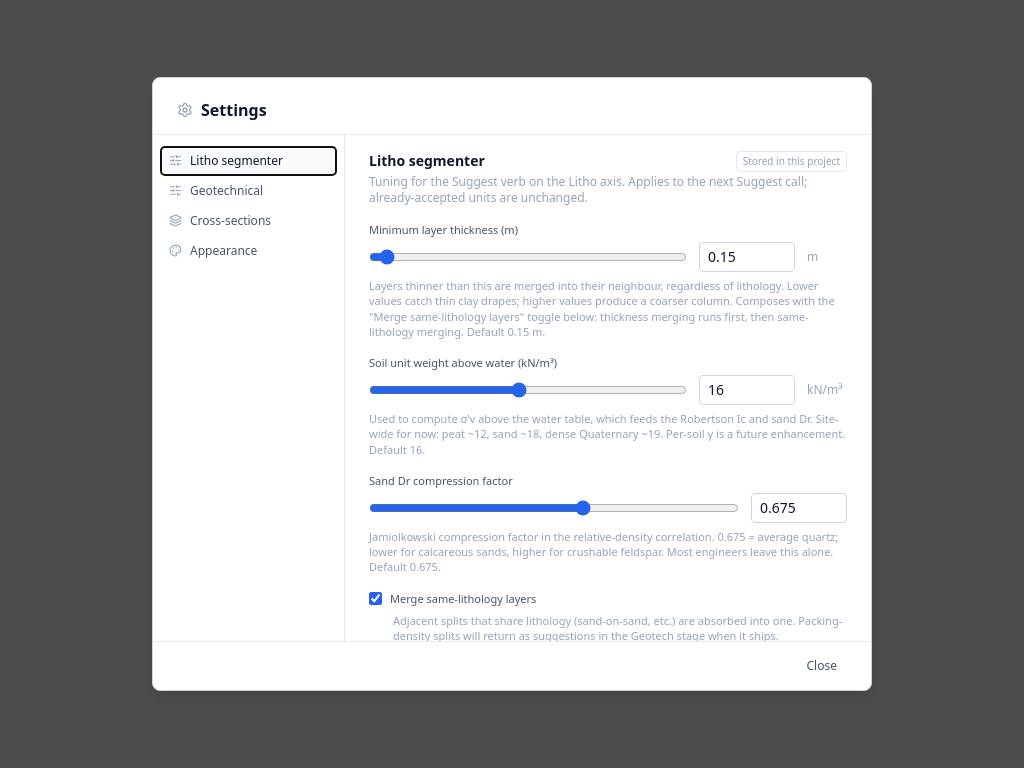
Scenario: Check for updates at start › SU1 - the row shows what main stores: on by default
Click the tab with test id "settings-section-appearance" at (248, 251), box [161,237,336,265]
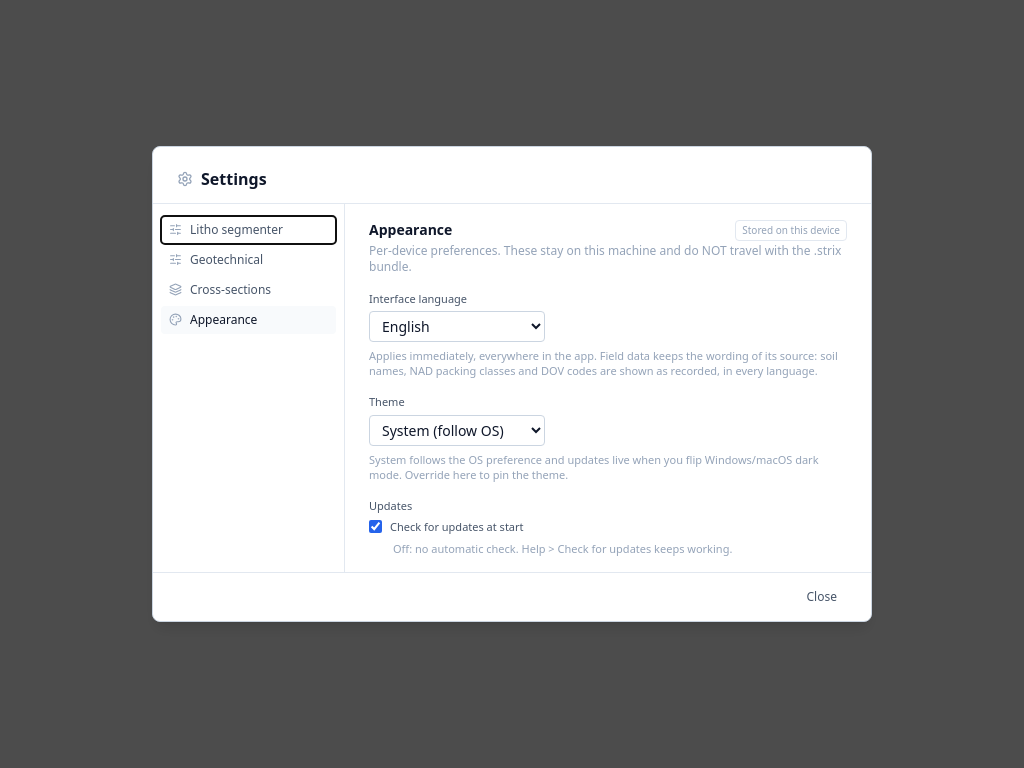
Result: the checkbox with test id "settings-update-check-at-start" is checked at [369,520,382,533]
Result: the text "Check for updates at start" is shown at [390,519,524,535]
